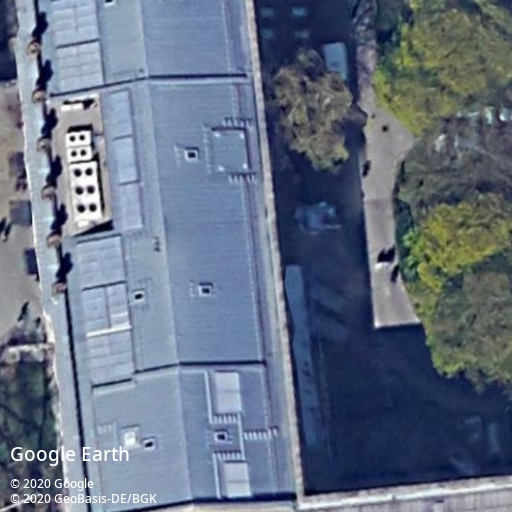Chiller: (66, 160, 103, 222), (64, 129, 92, 148), (66, 145, 94, 162)
